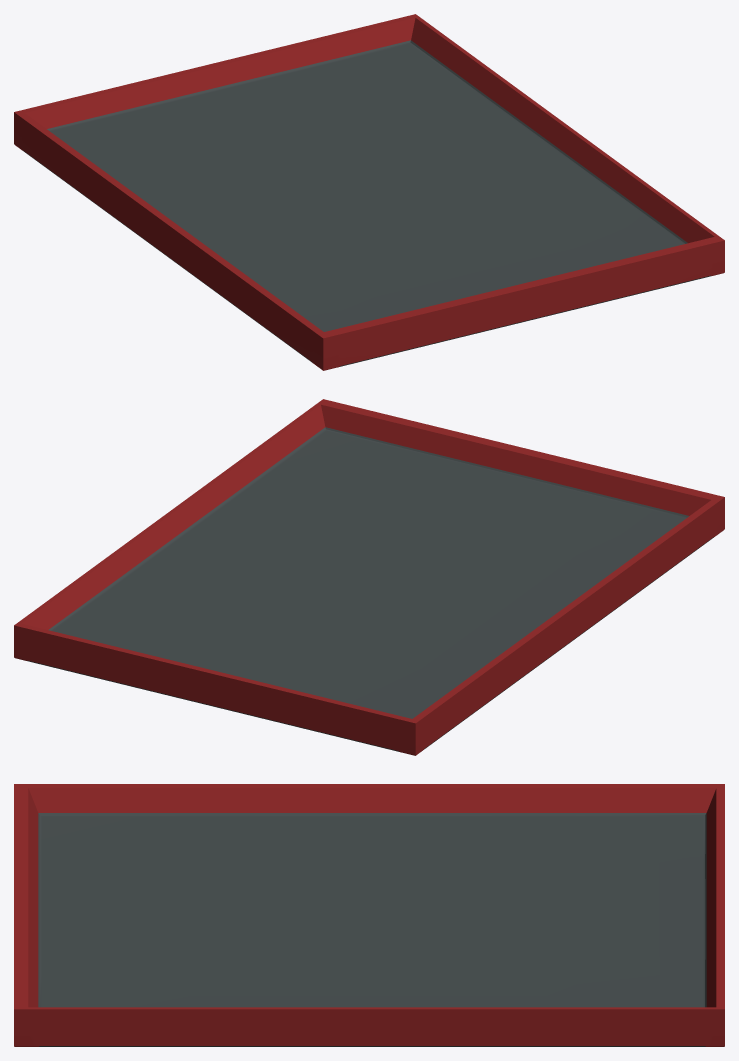
Rendered from RedTray01.fbx.
The picture shows the model from 3 angles, top to bottom: view 1: azimuth 30°, elevation 25°; view 2: azimuth 150°, elevation 25°; view 3: azimuth 270°, elevation 25°; orthographic projection. The views are drawn at different scales.
Parts seen in each view (by area): view 1: pasted__polySurface2, pasted__polySurface1; view 2: pasted__polySurface2, pasted__polySurface1; view 3: pasted__polySurface2, pasted__polySurface1.
Part boxes in pixels (left/top/right/bottom): pasted__polySurface2: left=22, top=40, right=710, bottom=366; pasted__polySurface1: left=14, top=14, right=724, bottom=370; pasted__polySurface2: left=28, top=427, right=713, bottom=751; pasted__polySurface1: left=14, top=399, right=724, bottom=755; pasted__polySurface2: left=38, top=813, right=706, bottom=1046; pasted__polySurface1: left=14, top=784, right=724, bottom=1046.
Size of the model in its own units: 30 by 2.36 by 40.
